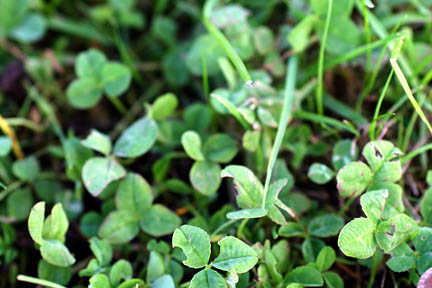clover: (4, 39, 428, 286)
